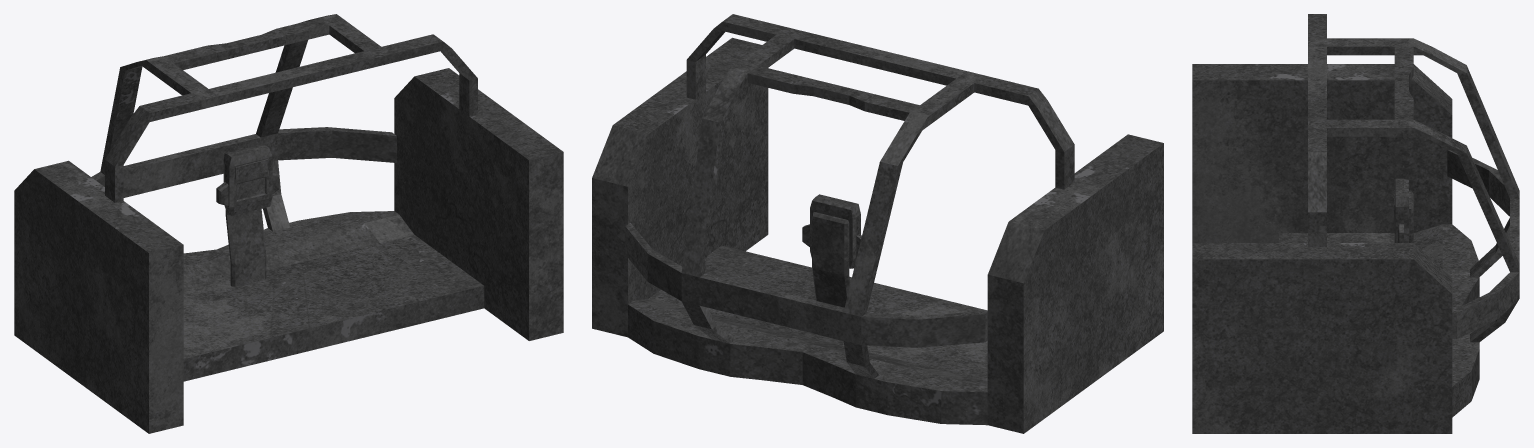
The model's file is cockpit2.glb.
3 views of the same model, side by side, from view 1: azimuth 30°, elevation 25°; view 2: azimuth 150°, elevation 25°; view 3: azimuth 270°, elevation 25° (orthographic). The views are drawn at different scales.
Visible parts, largest first — view 1: entity0_brush85, entity0_brush77, entity0_brush60, entity0_brush62, entity0_brush82, entity0_brush88, entity0_brush73, entity0_brush86, entity0_brush42, entity0_brush63, entity0_brush68, entity0_brush61 (+14 smaller); view 2: entity0_brush85, entity0_brush77, entity0_brush60, entity0_brush62, entity0_brush98, entity0_brush99, entity0_brush68, entity0_brush61, entity0_brush73, entity0_brush97, entity0_brush92, entity0_brush71 (+24 smaller); view 3: entity0_brush77, entity0_brush85, entity0_brush72, entity0_brush71, entity0_brush61, entity0_brush68, entity0_brush86, entity0_brush73, entity0_brush79, entity0_brush90, entity0_brush74, entity0_brush97 (+20 smaller).
Boxes of the visible parts, x1,y1,x2,y2 form: entity0_brush85: (14, 160, 183, 433); entity0_brush77: (394, 68, 563, 340); entity0_brush60: (183, 243, 449, 381); entity0_brush62: (123, 133, 277, 197); entity0_brush82: (183, 223, 379, 290); entity0_brush88: (380, 234, 484, 316); entity0_brush73: (209, 51, 374, 105); entity0_brush86: (327, 127, 396, 162); entity0_brush42: (227, 208, 266, 264); entity0_brush63: (278, 127, 332, 160); entity0_brush68: (256, 40, 307, 137); entity0_brush61: (100, 67, 142, 174); entity0_brush85: (987, 134, 1163, 433); entity0_brush77: (592, 37, 768, 337); entity0_brush60: (708, 254, 987, 377); entity0_brush62: (681, 273, 861, 344); entity0_brush98: (833, 365, 941, 423); entity0_brush99: (653, 321, 761, 379); entity0_brush68: (681, 118, 725, 277); entity0_brush61: (843, 162, 902, 316); entity0_brush73: (794, 31, 966, 85); entity0_brush97: (917, 310, 987, 347); entity0_brush92: (941, 379, 987, 425); entity0_brush71: (899, 71, 984, 133); entity0_brush77: (1192, 243, 1452, 433); entity0_brush85: (1192, 64, 1452, 242); entity0_brush72: (1308, 119, 1432, 136); entity0_brush71: (1308, 38, 1432, 55); entity0_brush61: (1457, 65, 1519, 198); entity0_brush68: (1457, 146, 1519, 272); entity0_brush86: (1452, 292, 1498, 338); entity0_brush73: (1308, 46, 1326, 119); entity0_brush79: (1442, 240, 1471, 289); entity0_brush90: (1279, 233, 1394, 242); entity0_brush74: (1308, 165, 1326, 212); entity0_brush97: (1447, 150, 1497, 194).
Size of the model in its own units: 75.37 by 45.54 by 53.39.
1 material, 1 textured.
